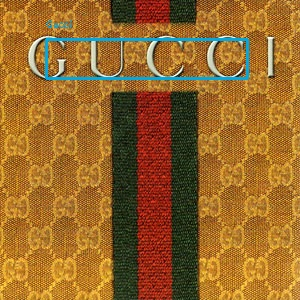Gucci: (25, 31, 281, 82)
